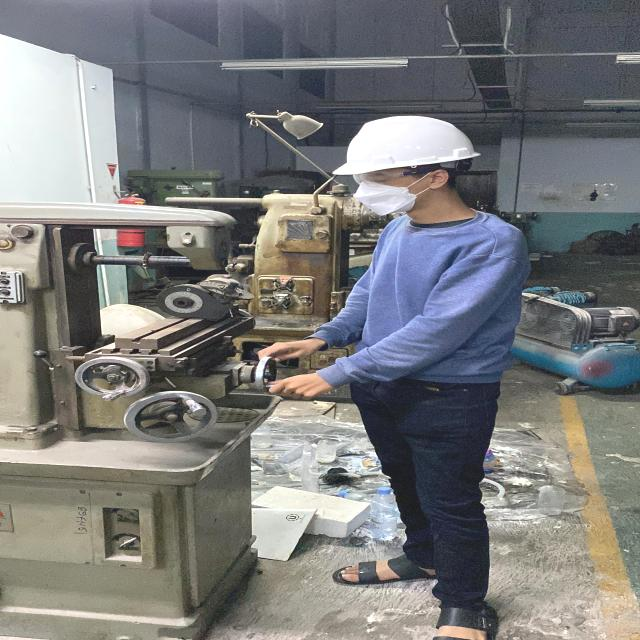face_mask: (346, 166, 423, 219)
glasses: (347, 167, 430, 188)
hand_noglove: (265, 369, 333, 400), (252, 336, 315, 364)
head_helmet: (330, 114, 483, 176)
person: (234, 107, 532, 640)
